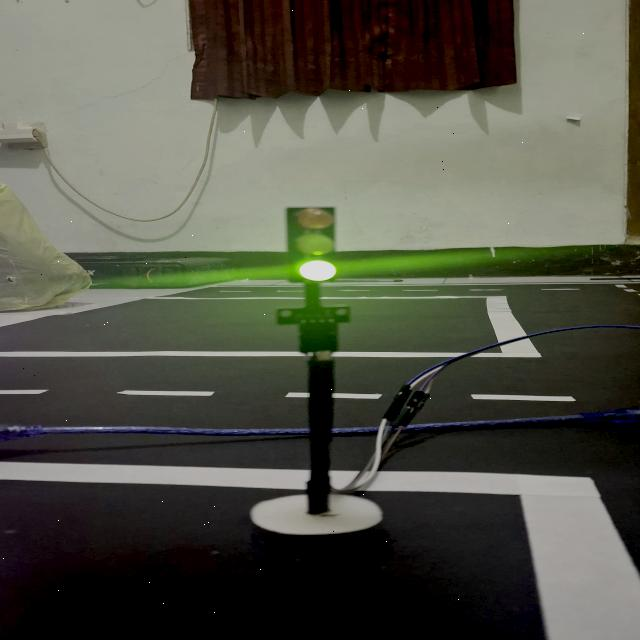Lampu Hijau: (284, 206, 338, 284)
